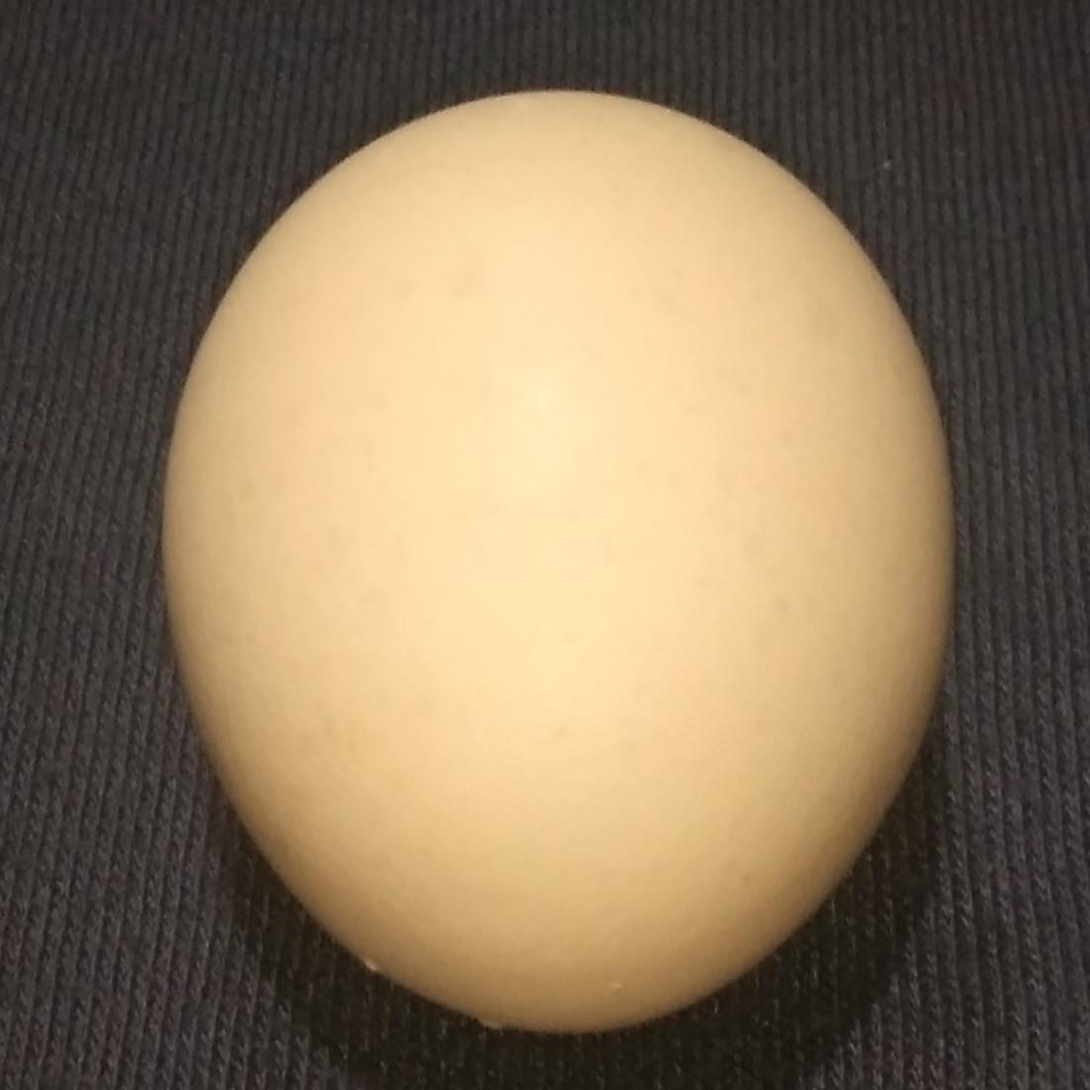egg: (153, 84, 981, 1045)
